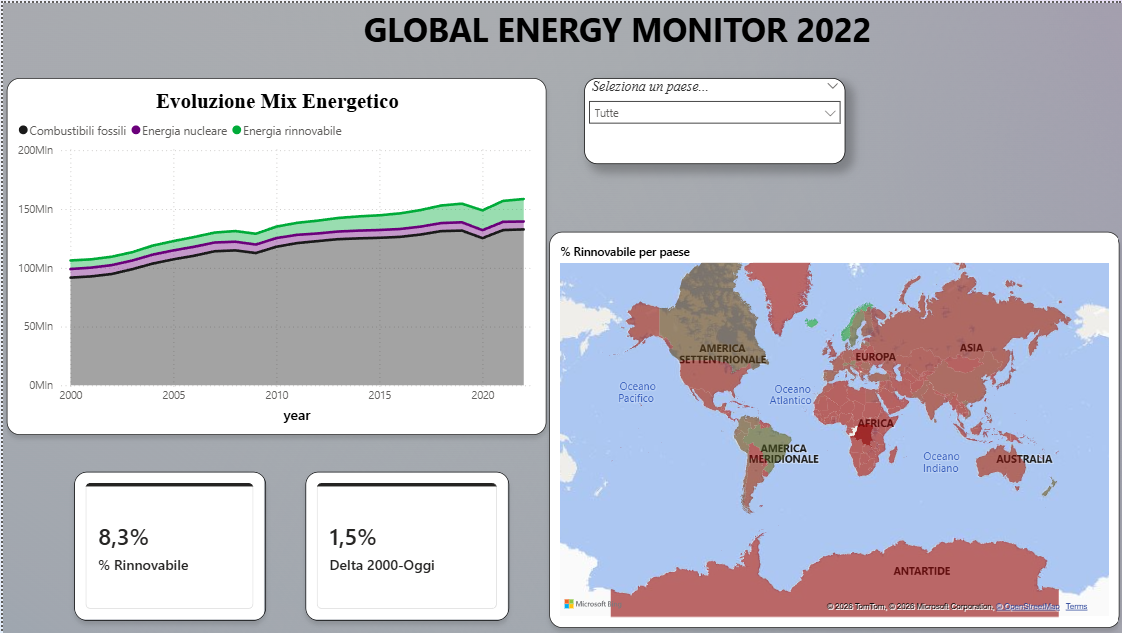

Layout of this report page (visuals, bound fields, positions):
{"tool":"powerbi","page":{"name":"Pagina 1","canvas":[1280,720],"ordinal":0},"visuals":[{"type":"stackedAreaChart","title":"Evoluzione Mix Energetico","fields":{"Category":["tipologia_energia.year"],"Y":["Sum(tipologia_energia.combustibili_fossili)","Sum(tipologia_energia.nucleare)","Sum(tipologia_energia.rinnovabili)"]},"box":[3.7,85.8,617,408],"z":0},{"type":"slicer","fields":{"Values":["tipologia_energia.country"]},"box":[664.3,85.8,298.6,98.3],"z":1000},{"type":"cardVisual","fields":{"Data":["tipologia_energia.% Rinnovabile"]},"box":[80.9,536.1,218.9,170.4],"z":2000},{"type":"filledMap","fields":{"Category":["tipologia_energia.country"]},"box":[624.5,261.2,653.1,452.8],"z":3000},{"type":"cardVisual","fields":{"Data":["tipologia_energia.Delta 2000-Oggi"]},"box":[345.8,536.1,232.6,170.4],"z":4000},{"type":"textbox","box":[145.5,0,1113.3,158],"z":6000}]}

Visuals, with their boxes in screenshot pixels (x1, y1, x2, y2), scaled from the page's 1280x720 canvas onto the 1122x633 screenshot:
"Evoluzione Mix Energetico" stackedAreaChart: bbox=(3, 75, 544, 434)
slicer - tipologia_energia.country: bbox=(582, 75, 844, 162)
cardVisual - tipologia_energia.% Rinnovabile: bbox=(71, 471, 263, 621)
filledMap - tipologia_energia.country: bbox=(547, 230, 1120, 628)
cardVisual - tipologia_energia.Delta 2000-Oggi: bbox=(303, 471, 507, 621)
textbox: bbox=(128, 0, 1103, 139)
